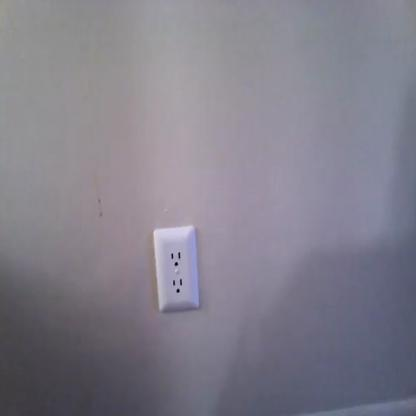OUTLET: (152, 224, 200, 312)
